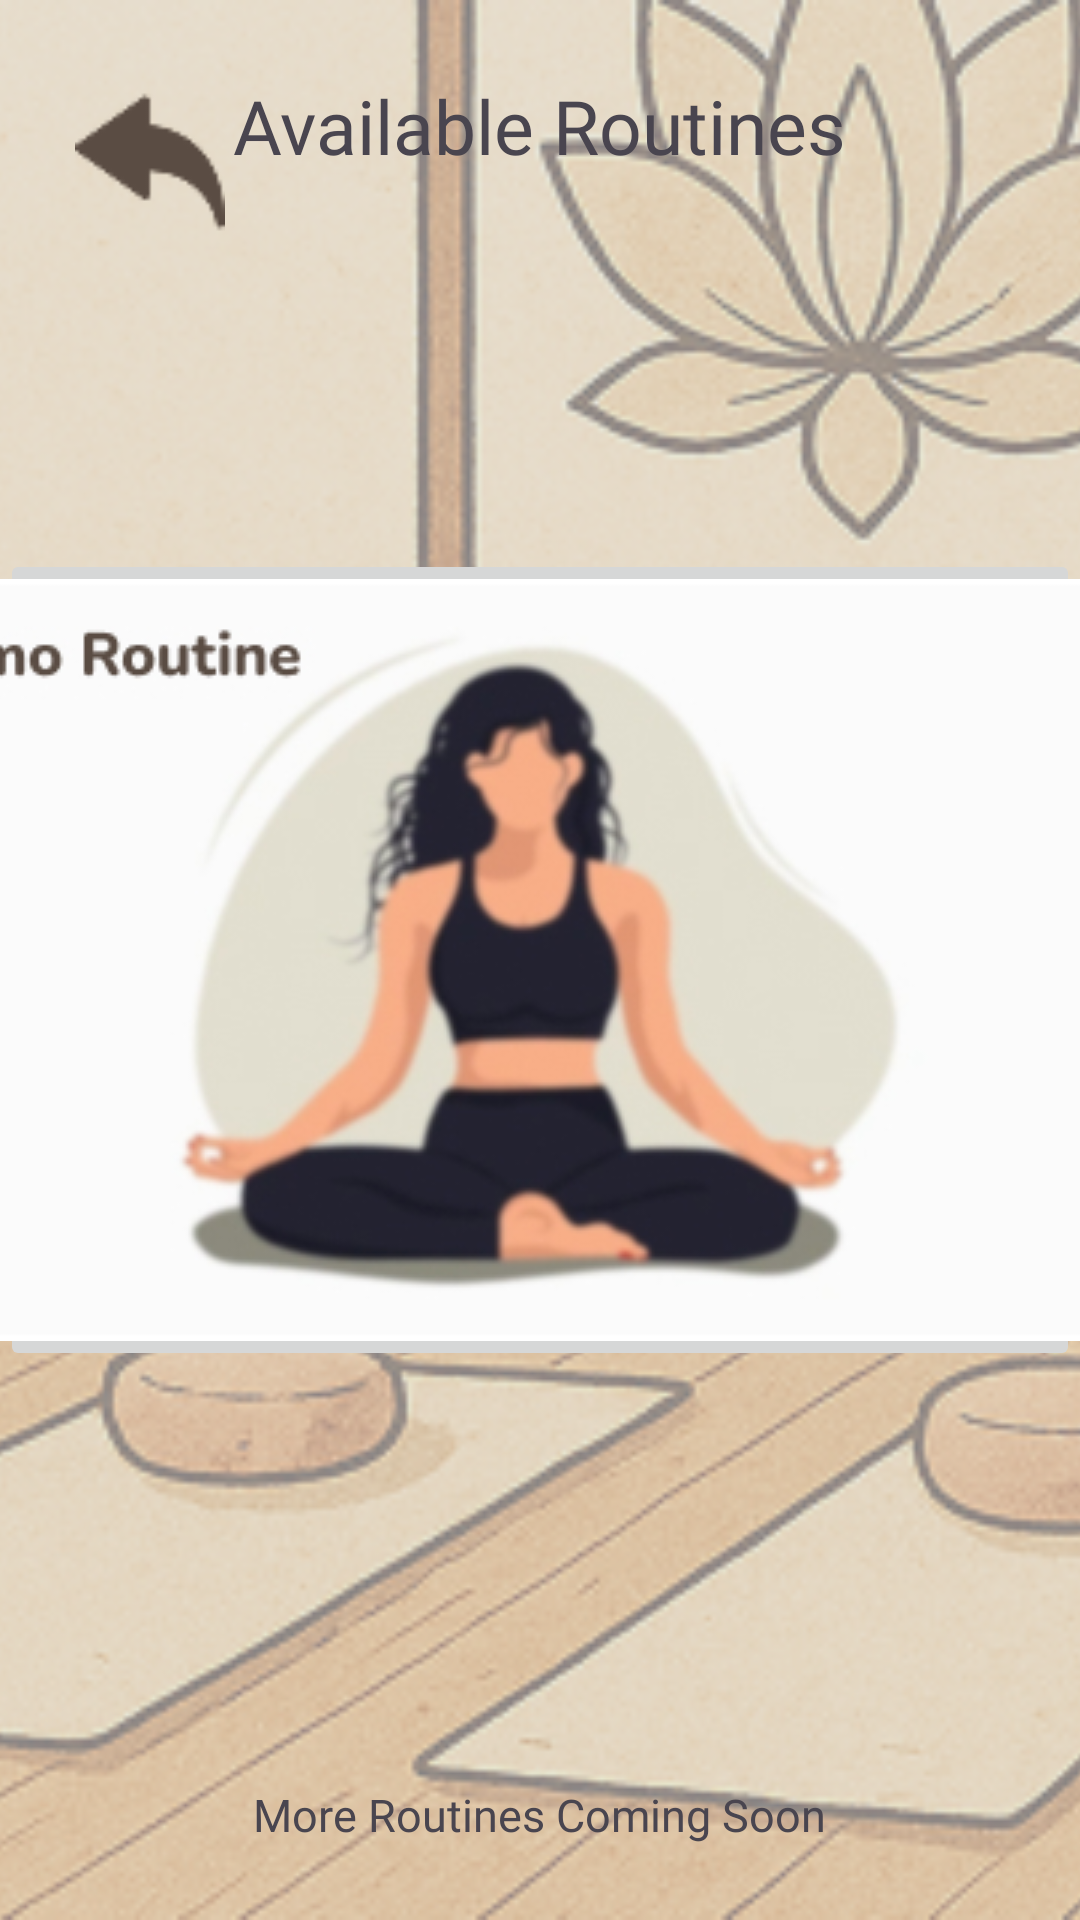

Screen size 1080*1920. Icon name, then its box in pixels as rect(x1, y1, x2, y2):
back: rect(75, 94, 225, 230)
